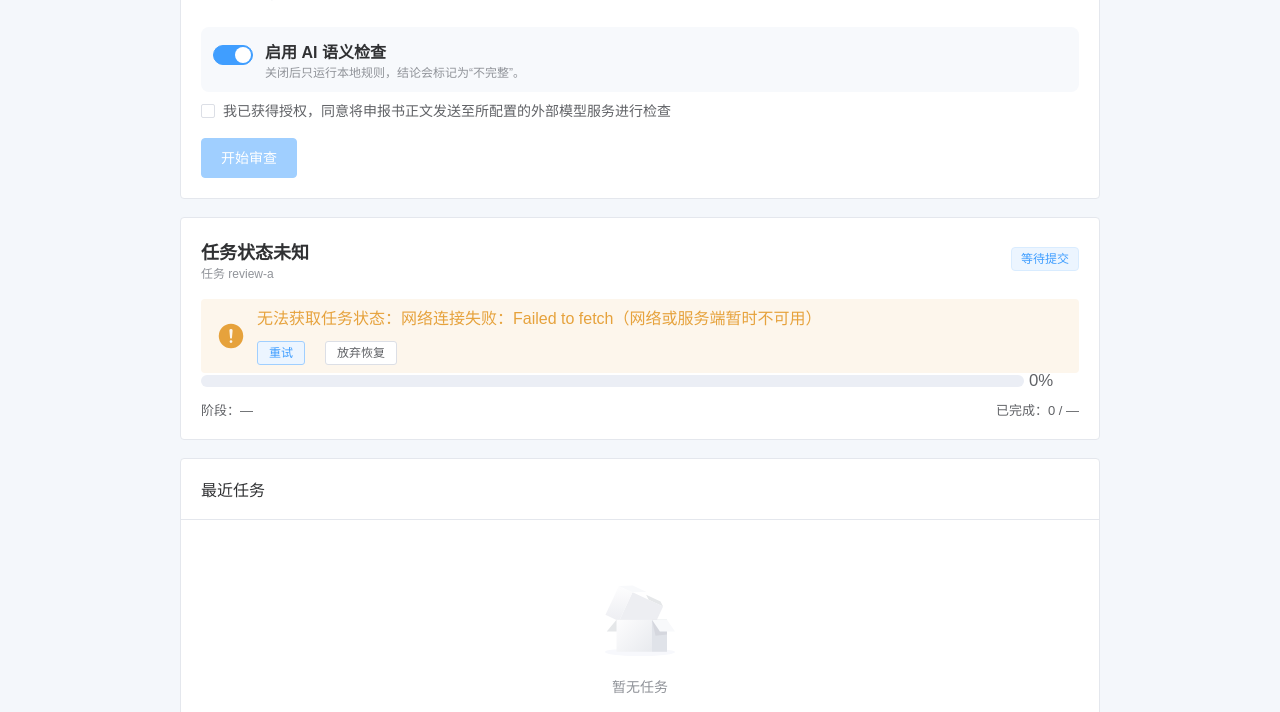
Scenario: R14-1/3 恢复失败时的键保留与用户隔离 › 用户点击“放弃恢复”：清理该用户的恢复键并停止展示该任务
The width and height of the screenshot is (1280, 712).
(page scrolled)
Click the button "放弃恢复". click: [361, 353]
box: [325,341,397,365]
(page scrolled)
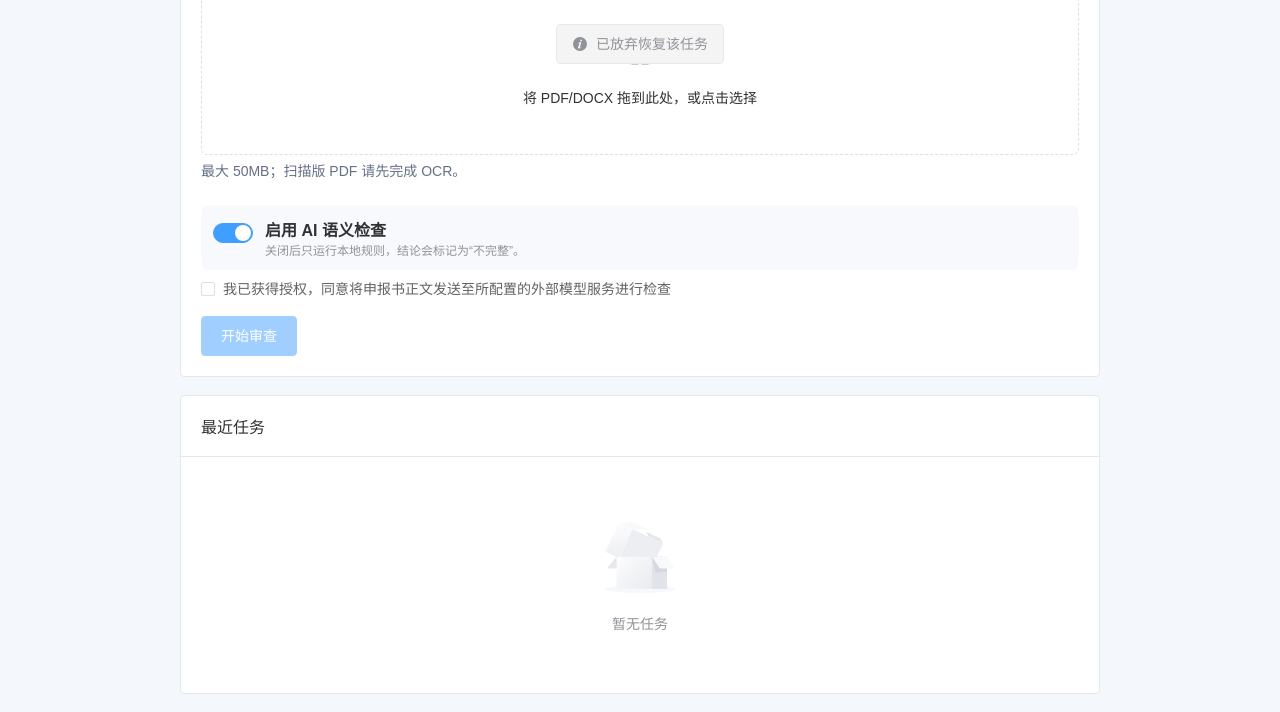
Result: the text "任务 review-a" is gone
